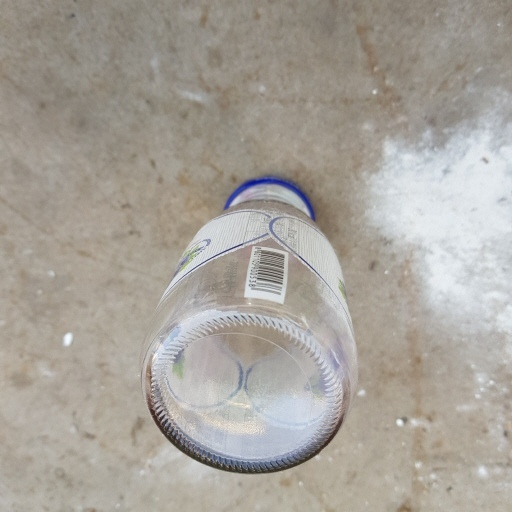Glass_4: (138, 169, 359, 471)
